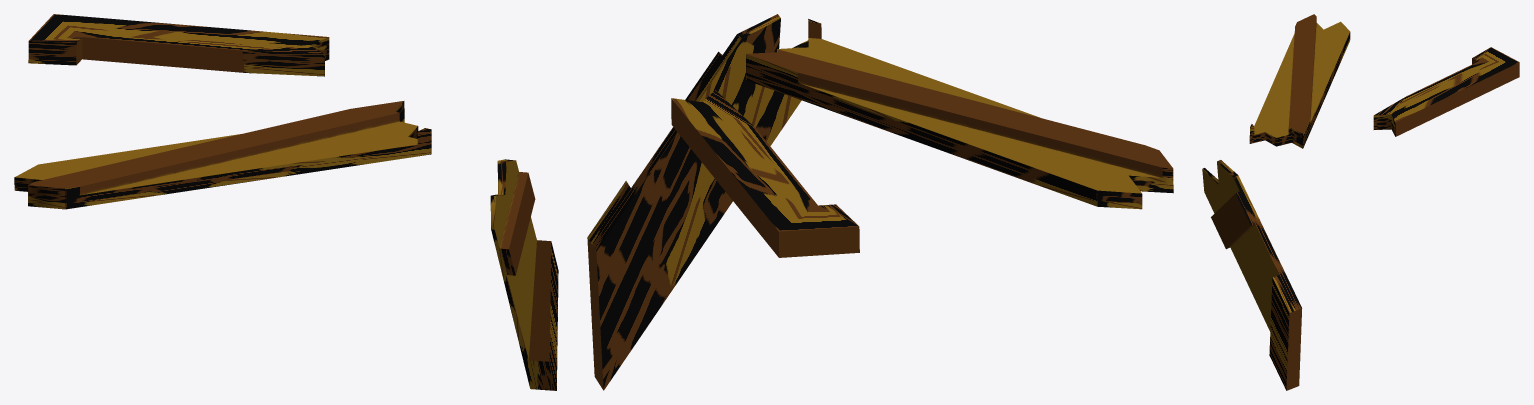
The model's file is escombros.fbx.
3 views of the same model, side by side, from view 1: azimuth 30°, elevation 25°; view 2: azimuth 150°, elevation 25°; view 3: azimuth 270°, elevation 25° (orthographic). The views are drawn at different scales.
Visible parts, largest first — view 1: Box131, Box142, Box138; view 2: Box131, Box138, Box142; view 3: Box138, Box131, Box142.
Part boxes in pixels (left/top/right/bottom): Box131: left=14, top=101, right=431, bottom=209; Box142: left=28, top=14, right=329, bottom=76; Box138: left=490, top=159, right=558, bottom=390; Box131: left=746, top=19, right=1173, bottom=209; Box138: left=587, top=14, right=808, bottom=390; Box142: left=671, top=90, right=859, bottom=257; Box138: left=1202, top=160, right=1302, bottom=390; Box131: left=1249, top=14, right=1350, bottom=148; Box142: left=1373, top=47, right=1519, bottom=136.
Bounding box in the file's own units: 146 × 90.36 × 117.
